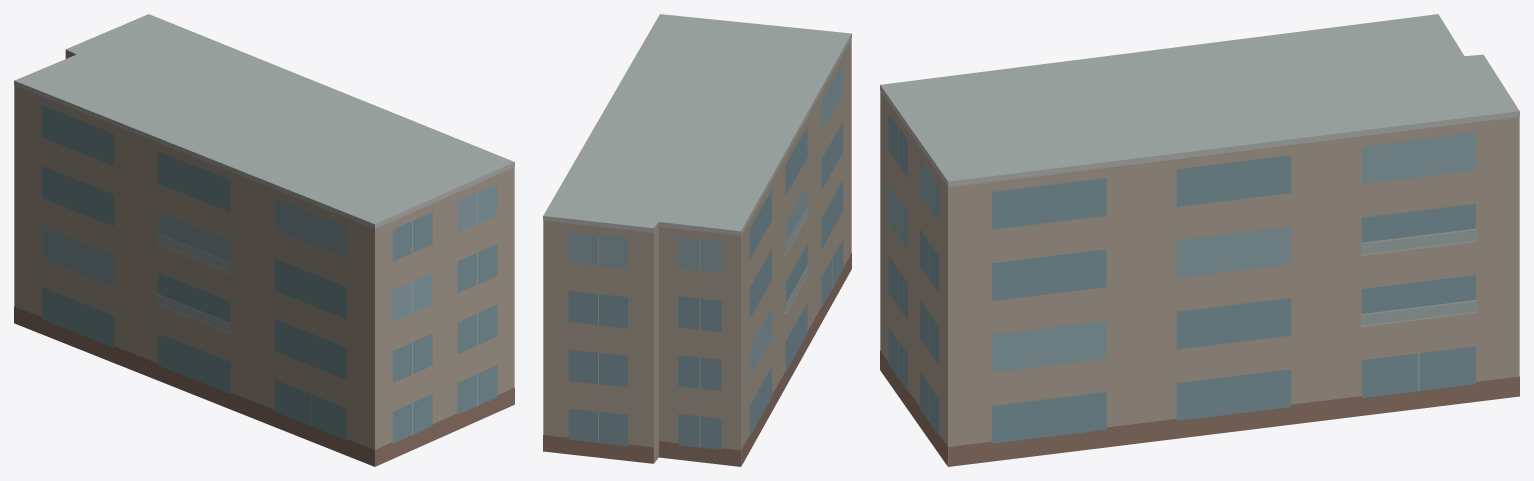
The model's file is survey-upis-32883178.glb.
The picture shows the model from 3 angles, left to right: view 1: azimuth 30°, elevation 25°; view 2: azimuth 150°, elevation 25°; view 3: azimuth 270°, elevation 25°; orthographic projection. The views are drawn at different scales.
Visible parts, largest first — view 1: survey-upis-32883178.tmp; view 2: survey-upis-32883178.tmp; view 3: survey-upis-32883178.tmp.
Part boxes in pixels (left/top/right/bottom): survey-upis-32883178.tmp: left=14, top=14, right=514, bottom=466; survey-upis-32883178.tmp: left=543, top=14, right=851, bottom=466; survey-upis-32883178.tmp: left=880, top=14, right=1519, bottom=466.
Bounding box in the file's own units: 15.38 × 12.2 × 24.8.
